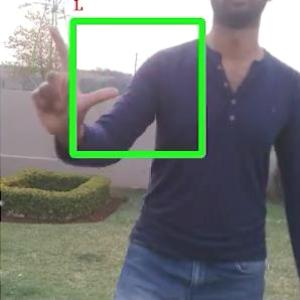land_hand: (25, 22, 120, 141)
